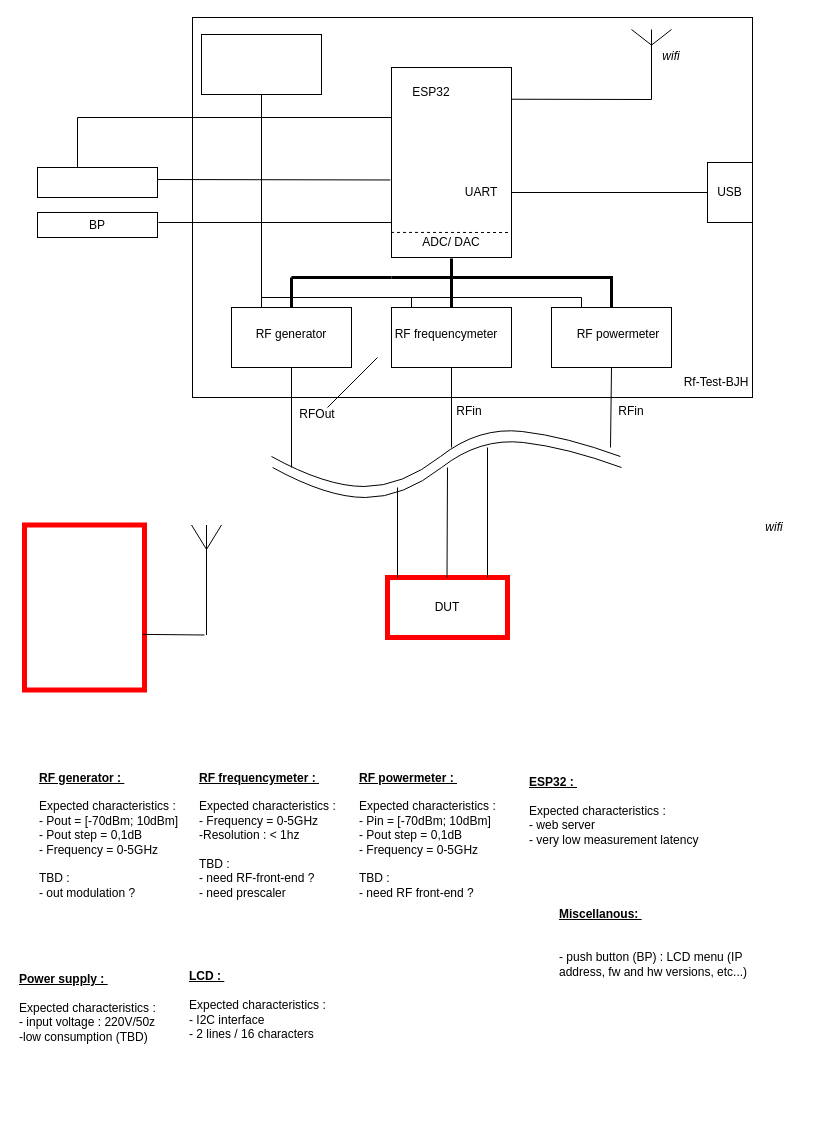
Image size: 821x1125. Some labels were removed from this diagram. The centre of each missing label's shape, as x and y in pixels:
LCD: point 97,182
PC: point 84,607
Power supply: point 261,64
